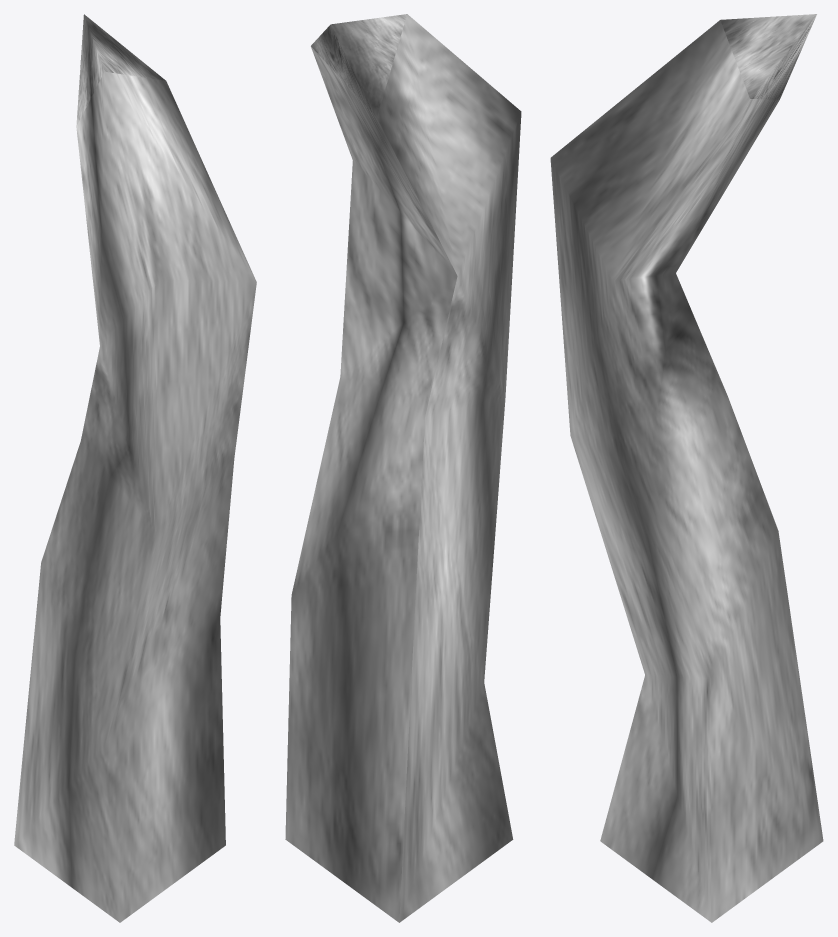
Rendered from Rug_Fluff_1.fbx.
3 views of the same model, side by side, from view 1: azimuth 30°, elevation 25°; view 2: azimuth 150°, elevation 25°; view 3: azimuth 270°, elevation 25° (orthographic). The views are drawn at different scales.
Parts seen in each view (by area): view 1: pCylinder5; view 2: pCylinder5; view 3: pCylinder5.
Part boxes in pixels (bbox=[...]): pCylinder5: bbox=[14, 14, 256, 922]; pCylinder5: bbox=[285, 14, 521, 922]; pCylinder5: bbox=[550, 14, 823, 922].
Size of the model in its own units: 0.1866 by 0.9173 by 0.2634.
1 material, 1 textured.
